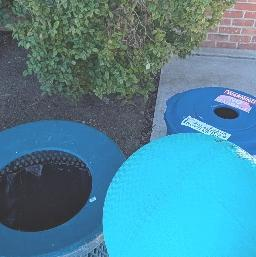algae: (108, 131, 256, 257)
